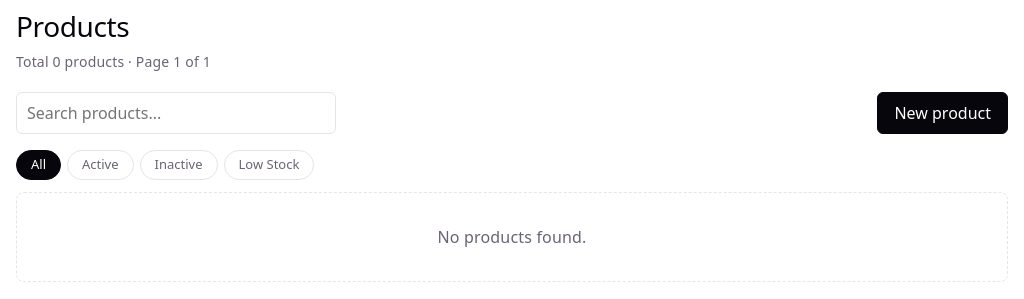
Test case: ProductsPage search › shows a search specific empty state when nothing matches
Check: the text "No products found." is shown, box x1=16 y1=192 x2=1008 y2=282
Type "nothing" into the search field labelled "Search products" at x=176, y=113, box x1=16 y1=92 x2=336 y2=134
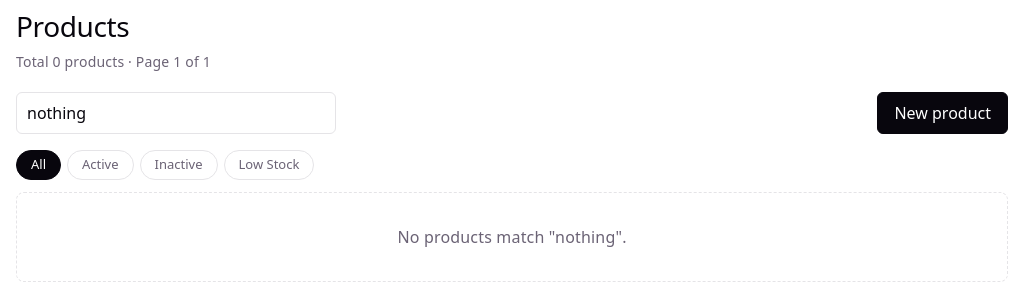
Check: the text "No products match \"nothing\"." is shown, box x1=16 y1=192 x2=1008 y2=282
